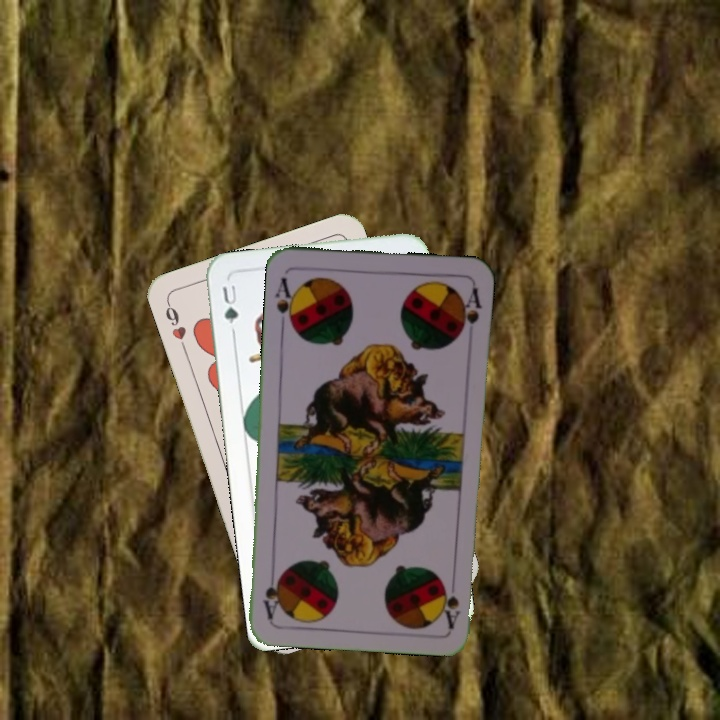GU: (218, 278, 241, 336)
H9: (161, 298, 190, 355)
SA: (271, 273, 299, 330), (439, 580, 463, 630)
